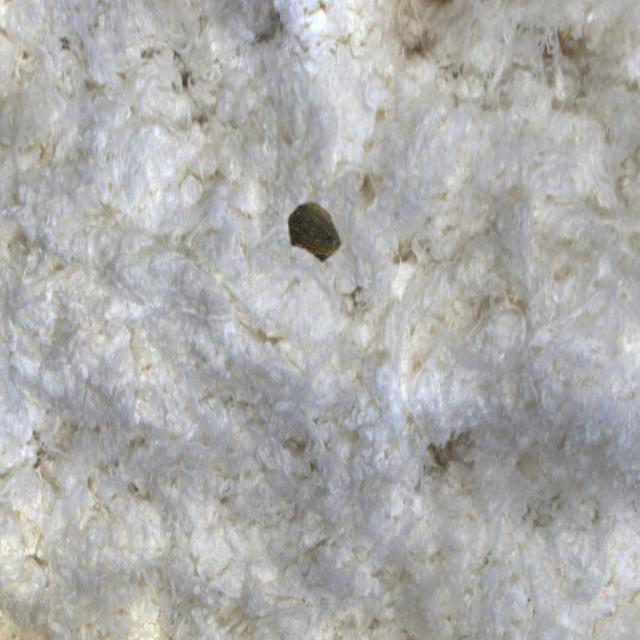dust: (274, 169, 370, 301)
